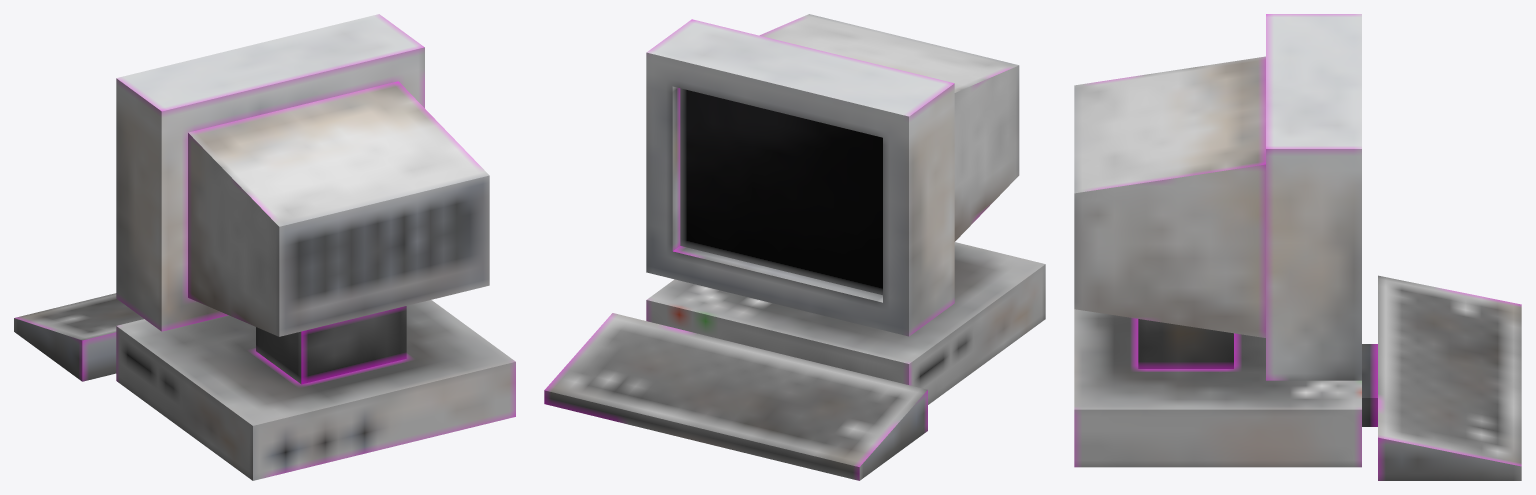
Rendered from computer.fbx.
3 renders of one model, left to right at view 1: azimuth 30°, elevation 25°; view 2: azimuth 150°, elevation 25°; view 3: azimuth 270°, elevation 25°, orthographic. The views are drawn at different scales.
Visible parts, largest first — view 1: computer; view 2: computer; view 3: computer.
Boxes of the visible parts, bbox=[...] form: computer: bbox=[14, 14, 515, 480]; computer: bbox=[544, 14, 1045, 480]; computer: bbox=[1074, 14, 1521, 480].
Size of the model in its own units: 120 by 110 by 140.
